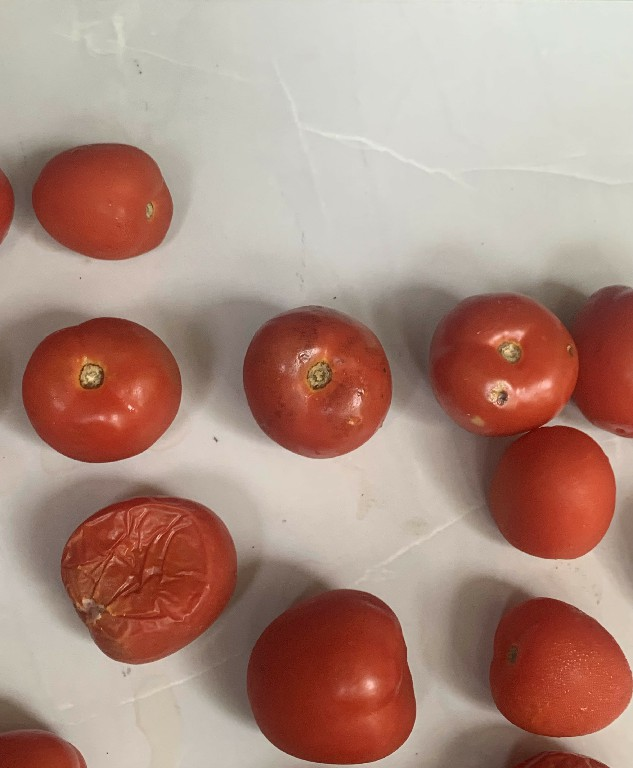NG: (55, 493, 240, 669), (423, 283, 581, 434)
OK: (245, 589, 416, 764), (234, 294, 397, 463), (18, 315, 195, 456), (477, 589, 632, 740), (484, 422, 620, 566), (21, 141, 177, 264)
